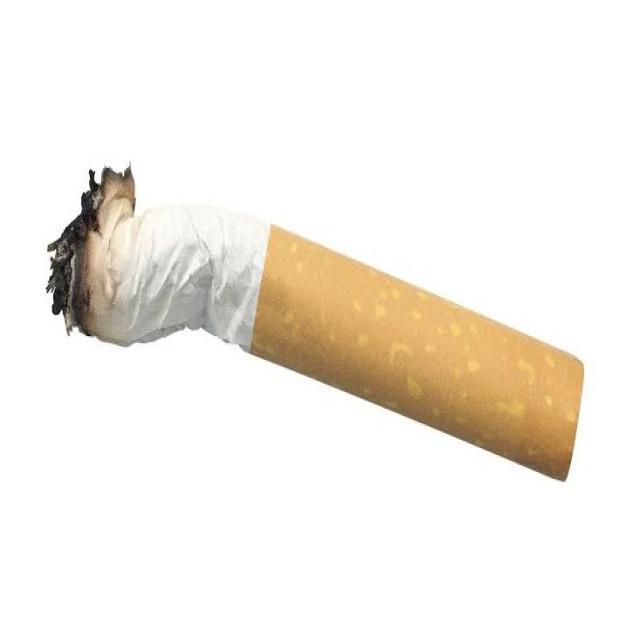cigarette: (45, 168, 586, 483)
